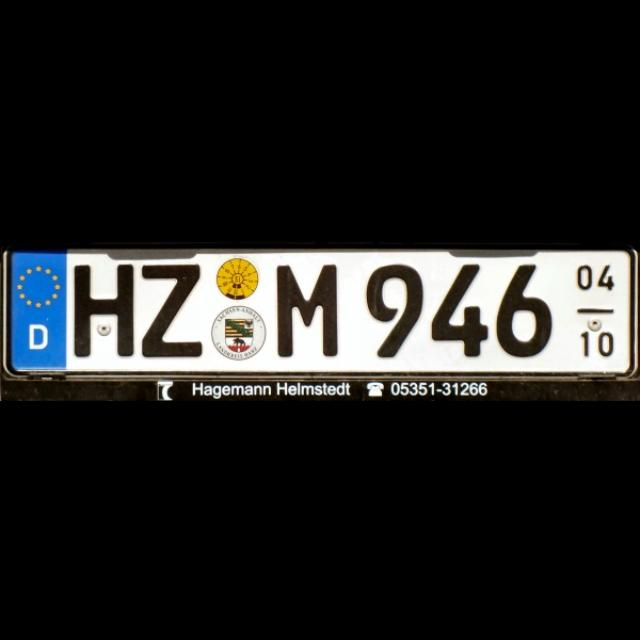d_license_plate: (6, 248, 634, 376)
